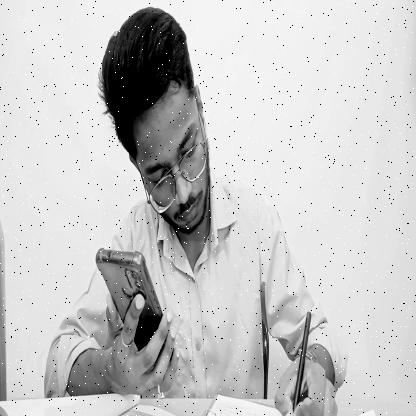Distracted: (102, 13, 214, 242)
